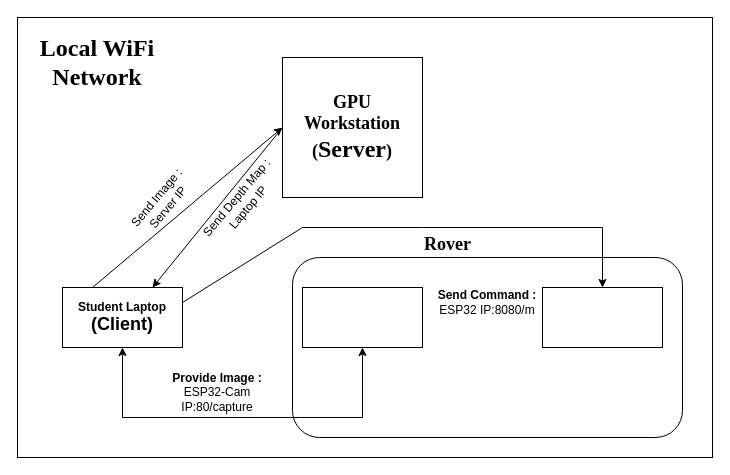
The diagram is 730 pixels wide and 475 high, and some of its shapes have lost their labels. The centre of each missing label's shape, as x and y in pixels:
"ESP32 (Rover)" goes at point 602,317.
"ESP32-Cam" goes at point 362,317.
